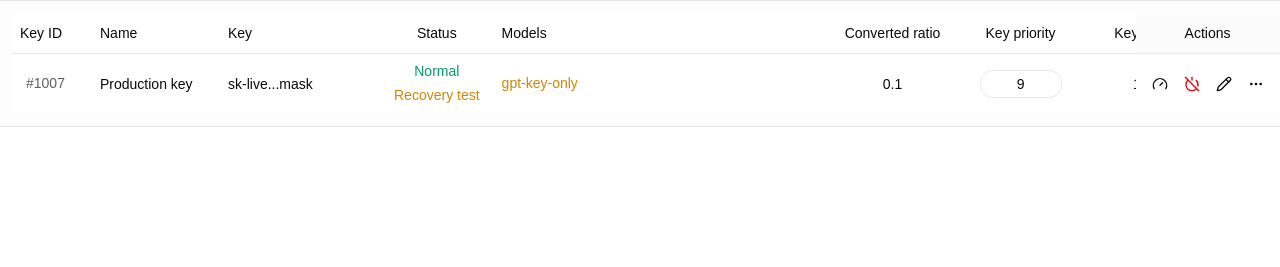
密钥状态 Tooltip 展示最近五条健康样本并区分状态
Hover over the text "Normal" at (437, 72), box x1=414 y1=61 x2=459 y2=82
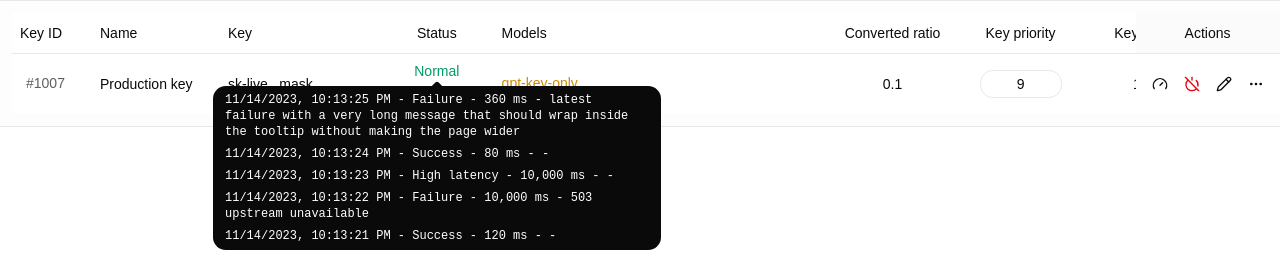
Now the text "11/14/2023, 10:13:24 PM - Success - 80 ms - -" is shown, box x1=225 y1=147 x2=549 y2=161
Now the text "Failure - 360 ms - latest failure" is shown, box x1=225 y1=92 x2=649 y2=140
Now the text "11/14/2023, 10:13:23 PM - High latency - 10,000 ms - -" is shown, box x1=225 y1=168 x2=649 y2=184
